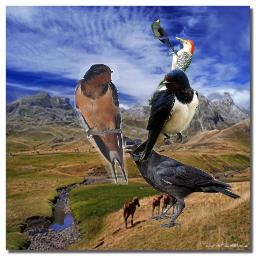Crow: (123, 142, 241, 228)
Cuckoo: (151, 19, 180, 57)
Swallow: (74, 63, 128, 185), (131, 68, 199, 164)
Woodpecker: (156, 35, 194, 90)
